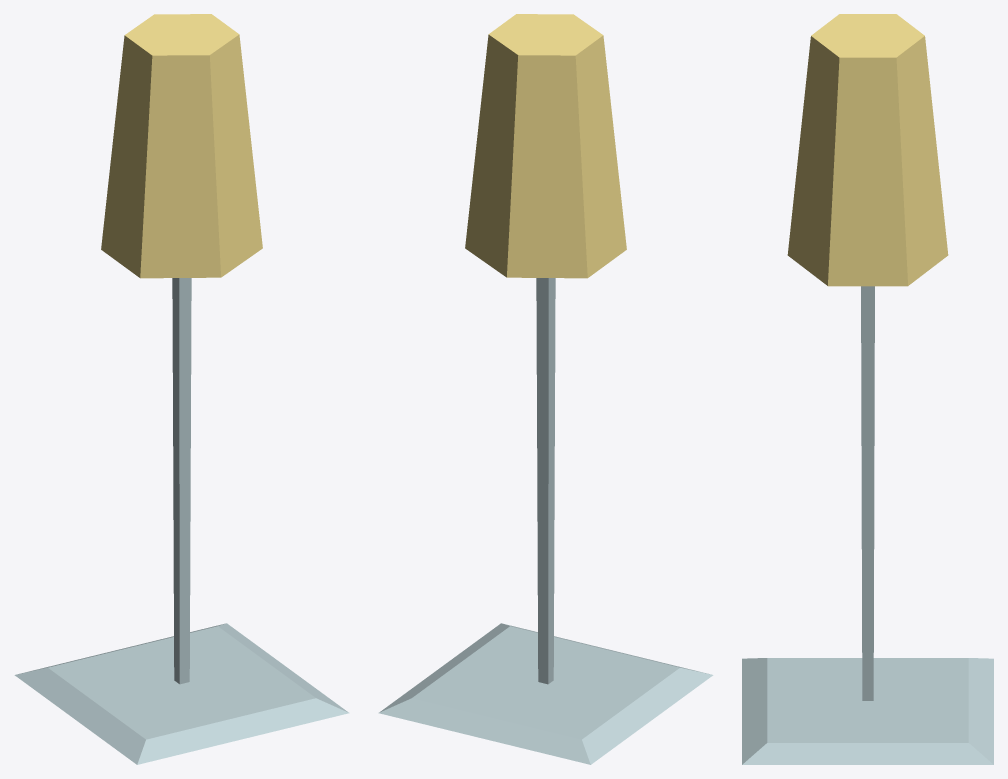
Rendered from LampRoundFloor.fbx.
3 renders of one model, left to right at view 1: azimuth 30°, elevation 25°; view 2: azimuth 150°, elevation 25°; view 3: azimuth 270°, elevation 25°, orthographic. The views are drawn at different scales.
Visible parts, largest first — view 1: lampRoundFloor; view 2: lampRoundFloor; view 3: lampRoundFloor.
Part boxes in pixels (<box>): lampRoundFloor: <box>14,14,349,764</box>; lampRoundFloor: <box>378,14,713,764</box>; lampRoundFloor: <box>742,14,993,764</box>.
Size of the model in its own units: 99.54 by 295 by 99.68.
